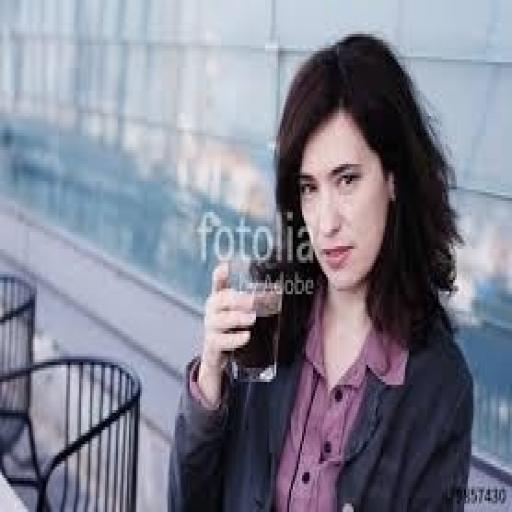drinking: (224, 254, 284, 382)
